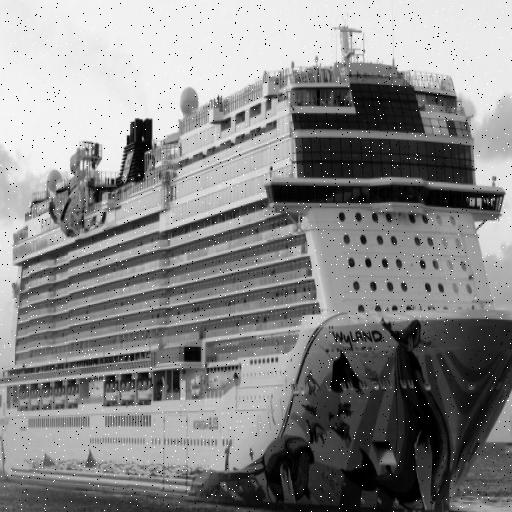cruises: (1, 20, 512, 512)
